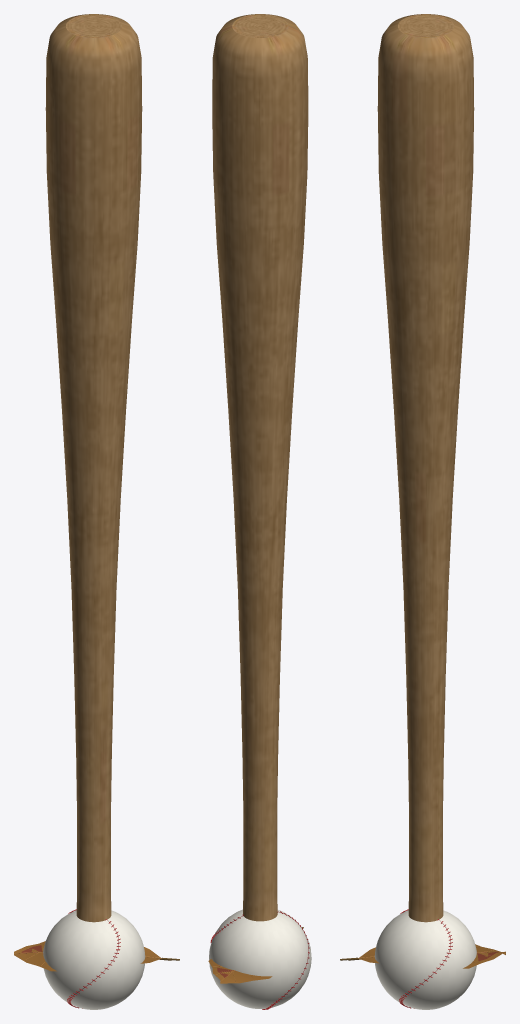
The model's file is season-extras.glb.
3 renders of one model, left to right at view 1: azimuth 90°, elevation 25°; view 2: azimuth 150°, elevation 25°; view 3: azimuth 270°, elevation 25°, orthographic.
Visible parts, largest first — view 1: Prop_Bat, Prop_Baseball, Season_Leaf_Ochre; view 2: Prop_Bat, Prop_Baseball, Season_Leaf_Ochre; view 3: Prop_Bat, Prop_Baseball, Season_Leaf_Ochre.
Part boxes in pixels (x1,y1,x2,y2): Prop_Bat: (45, 14, 142, 922); Prop_Baseball: (43, 909, 145, 1009); Season_Leaf_Ochre: (14, 941, 179, 971); Prop_Bat: (212, 14, 308, 921); Prop_Baseball: (209, 909, 311, 1009); Season_Leaf_Ochre: (208, 927, 303, 983); Prop_Bat: (377, 14, 474, 922); Prop_Baseball: (374, 909, 476, 1009); Season_Leaf_Ochre: (340, 944, 505, 968).
Bounding box in the file's own units: 0.0742 × 0.7671 × 0.1177.
Materials: 5 (1 with a texture image).
